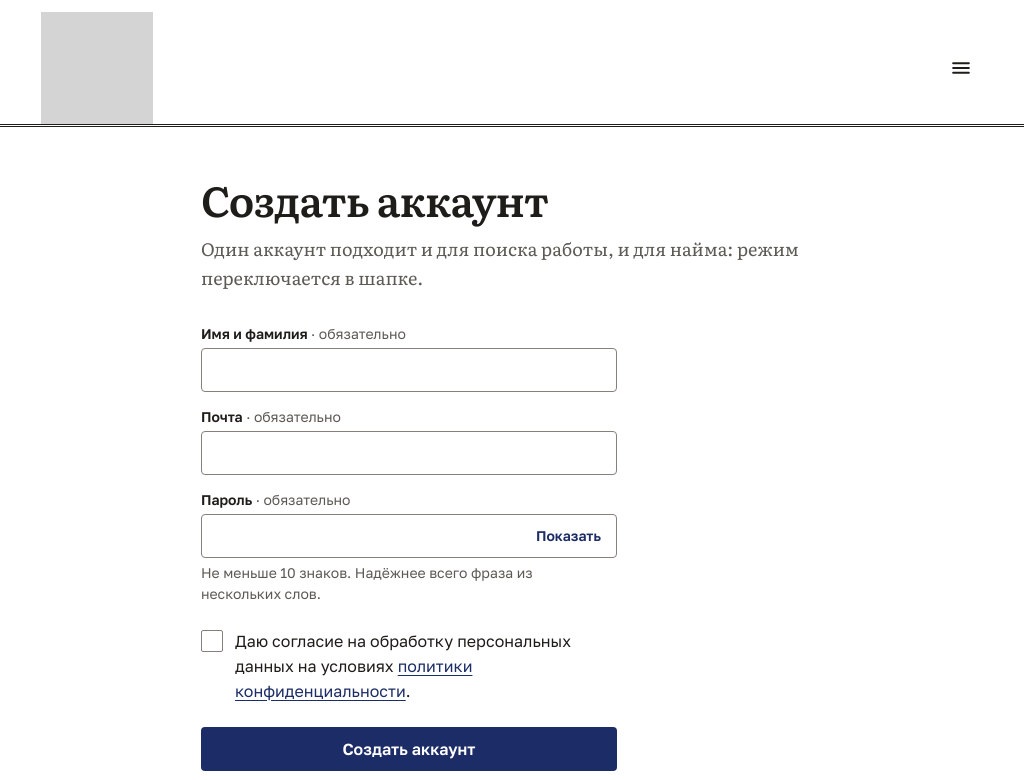
Test case: RegisterPage › asks for everything, explains each problem and focuses the first one
This screenshot has width=1024, height=780.
Click the button "Создать аккаунт".
click(409, 749)  # box [201,727,617,771]
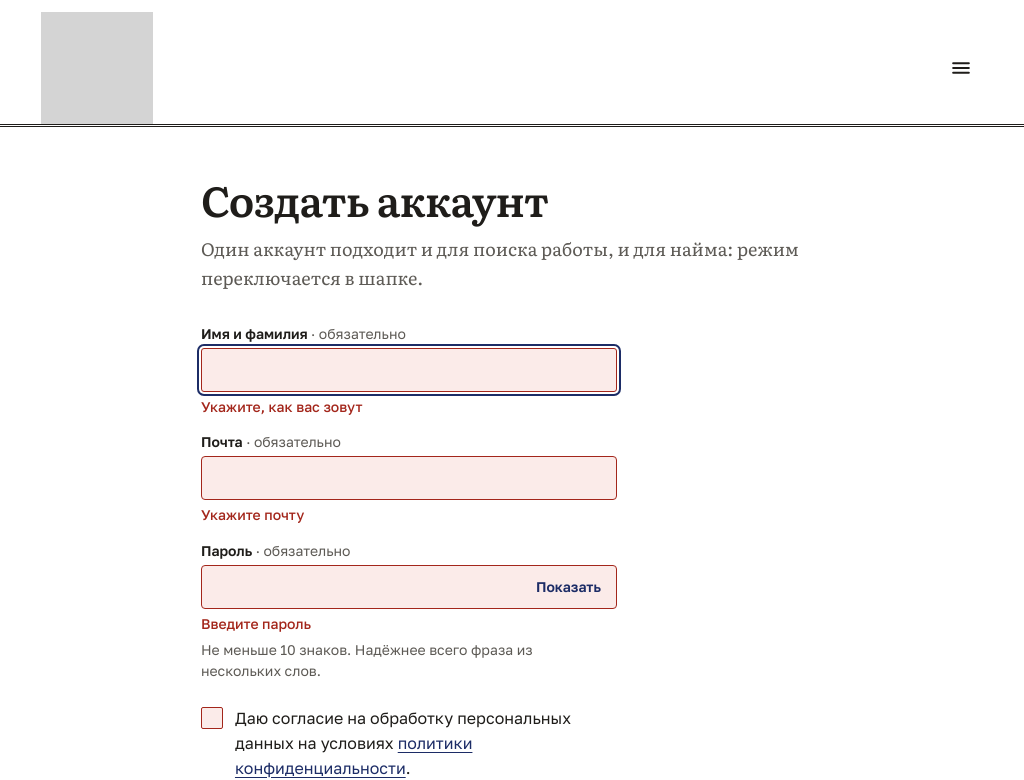
Check: the text "Укажите, как вас зовут" is shown, box [201,398,363,415]
Check: the text "Укажите почту" is shown, box [201,506,304,523]
Check: the text "Введите пароль" is shown, box [201,615,311,632]
